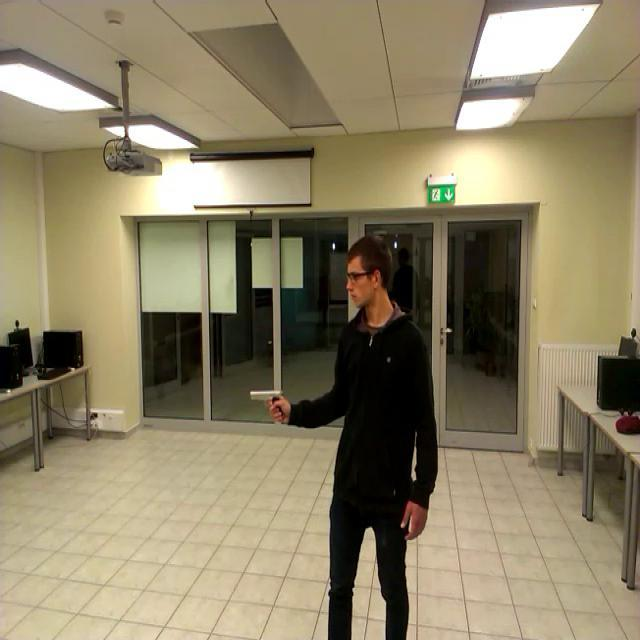Gun: (249, 388, 284, 418)
